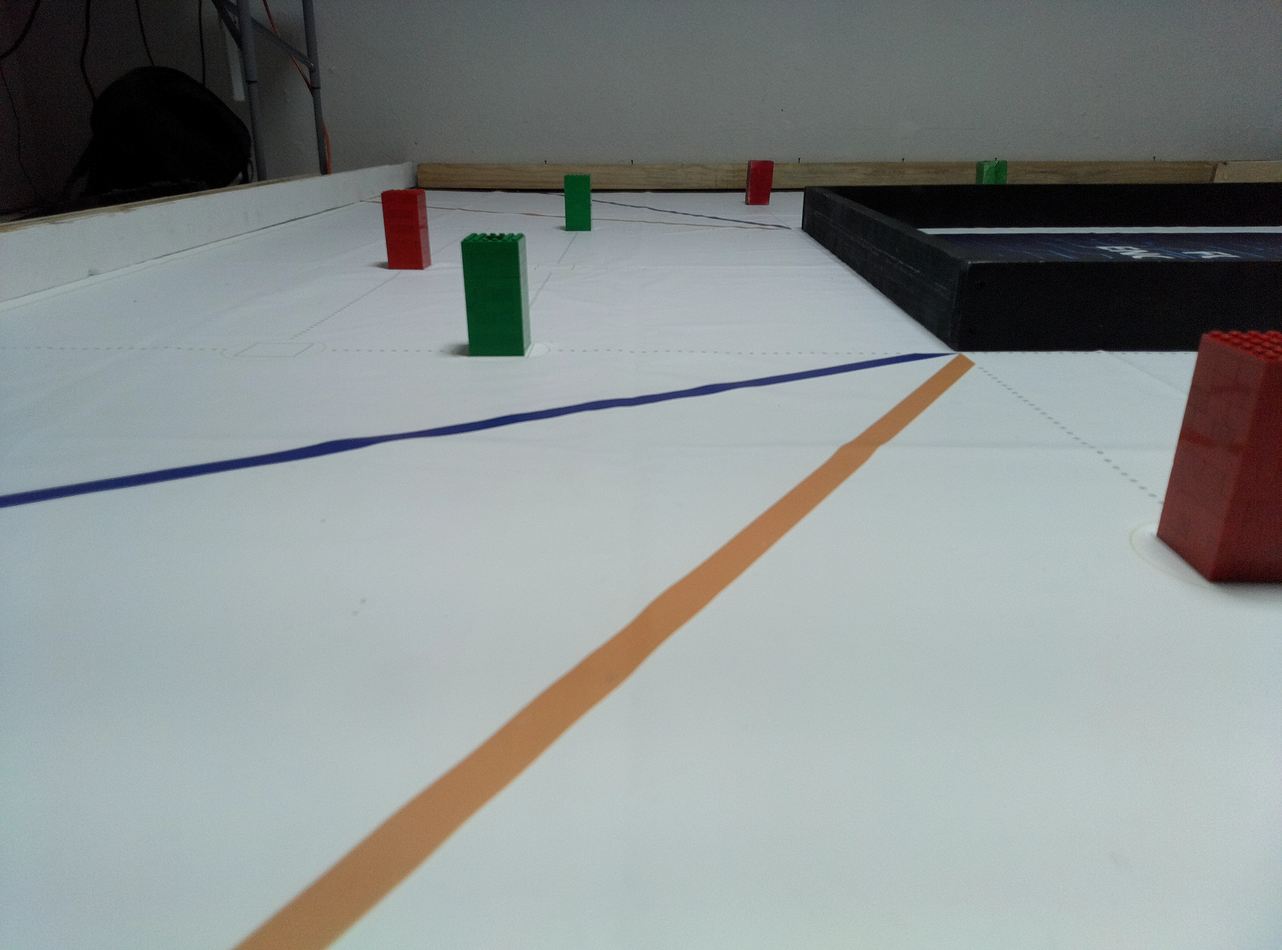greenbox: (460, 232, 533, 358), (563, 173, 594, 232), (975, 156, 1011, 183)
redbox: (1156, 327, 1282, 587), (380, 187, 433, 272), (744, 159, 776, 206)
